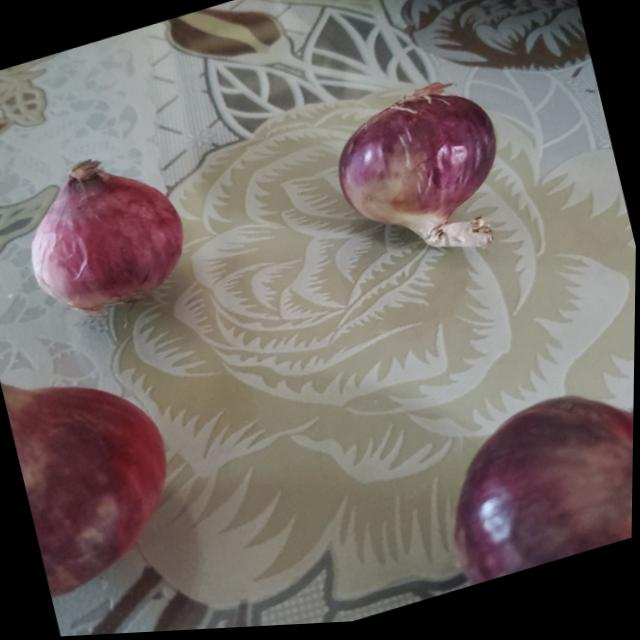onion: (0, 341, 189, 599), (432, 373, 635, 590), (15, 136, 200, 328), (326, 77, 510, 244)
